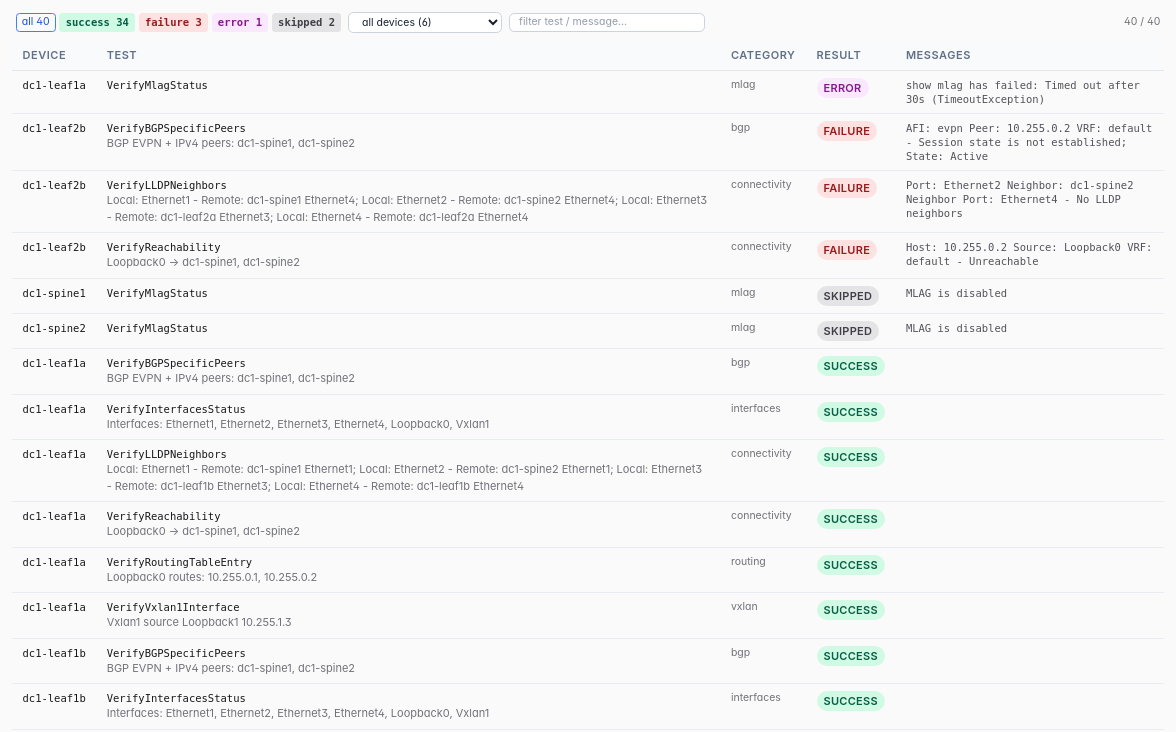
ValidationResults table › toggles status chips and combines with the device filter
Step 1. Click the button with test id "filter-failure" → (173, 22), box [139,12,208,32]
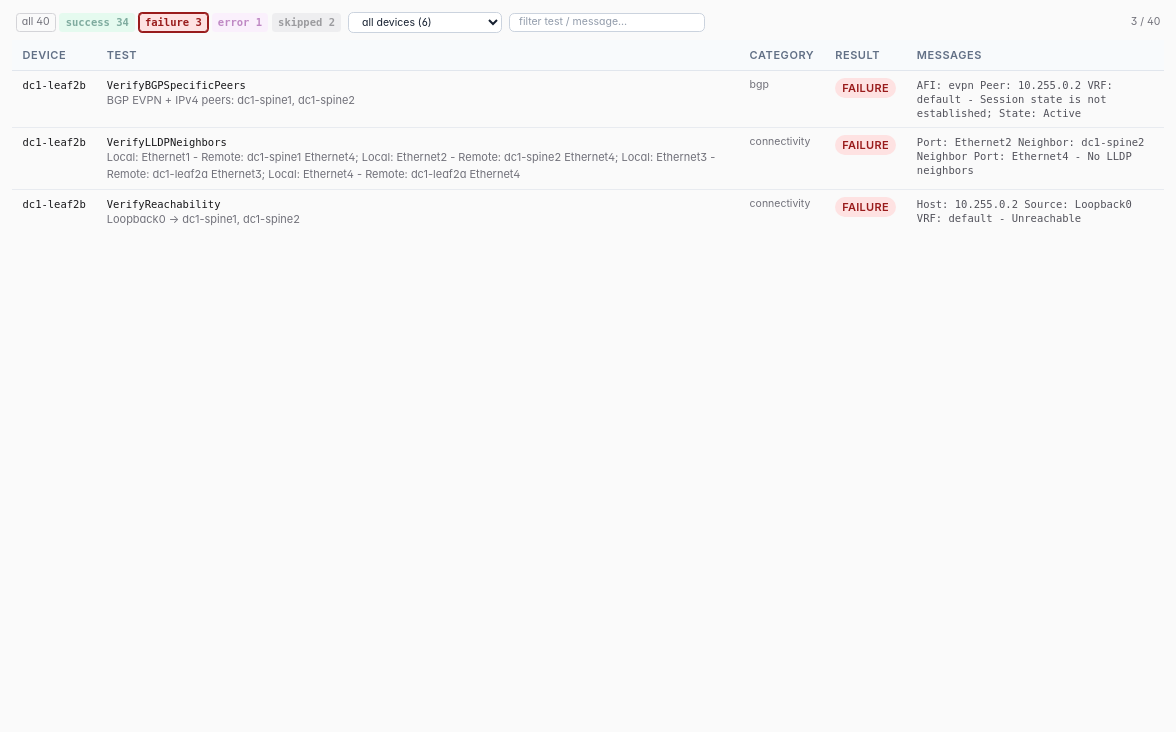
Now the number of rows with test id "result-row" is 3, box [12,70,1164,128]; [12,128,1164,190]; [12,190,1164,234]
Step 2. Click the button with test id "filter-error" → (240, 22), box [212,12,268,32]
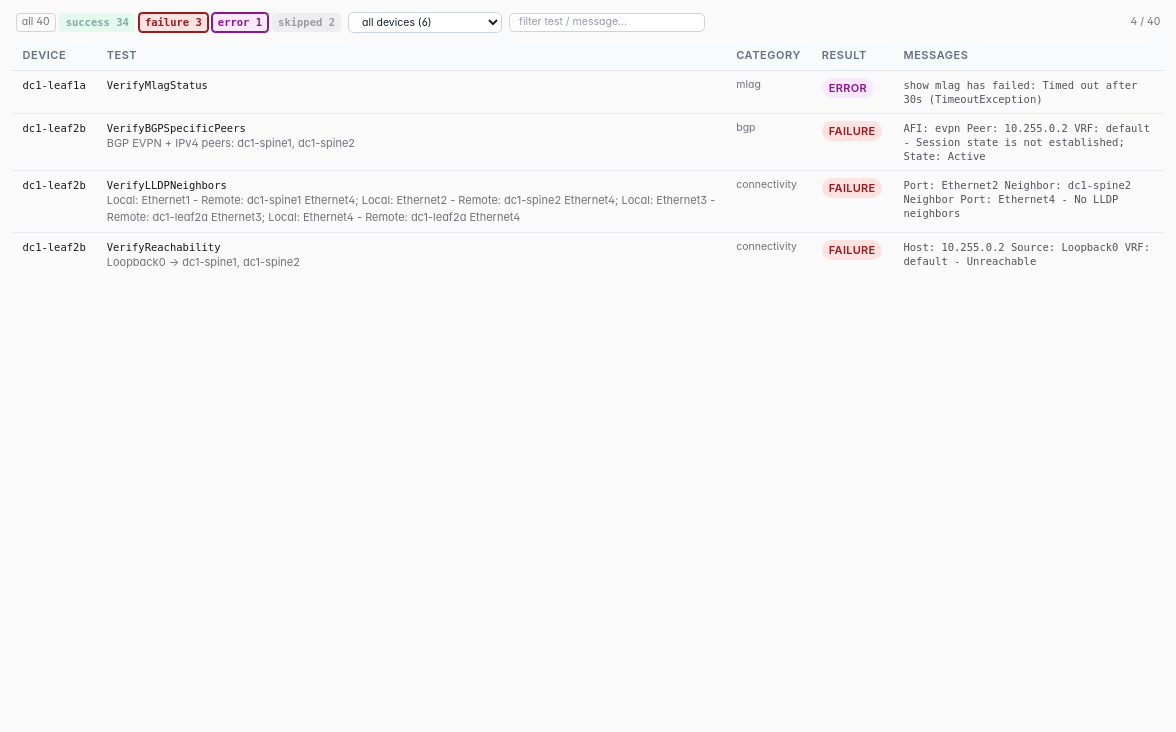
Now the number of rows with test id "result-row" is 4, box [12,70,1164,114]; [12,114,1164,170]; [12,170,1164,232]; [12,232,1164,278]
Step 3. Select "dc1-spine1" in the dropdown named "device filter" → (425, 22), box [348,12,502,32]
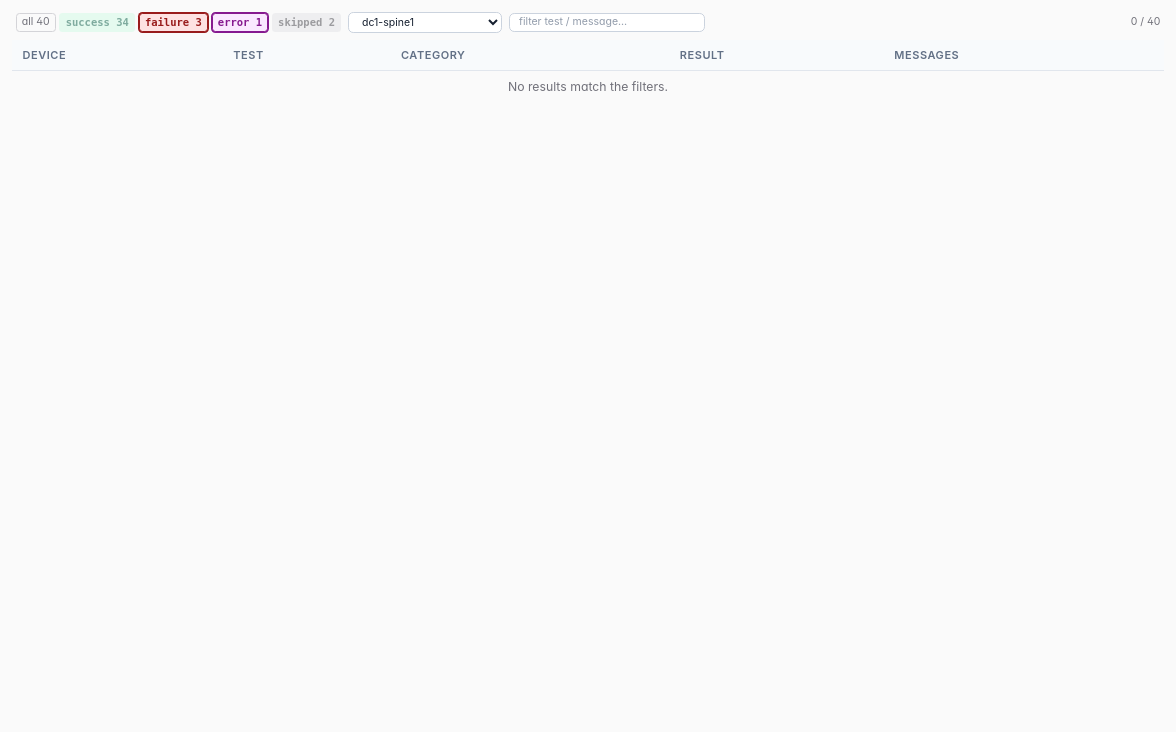
Now no rows with test id "result-row" are shown
Now the text "No results match the filters." is shown, box [12,70,1164,102]
Step 4. Click the button "all 40" → (36, 22), box [16,12,56,32]
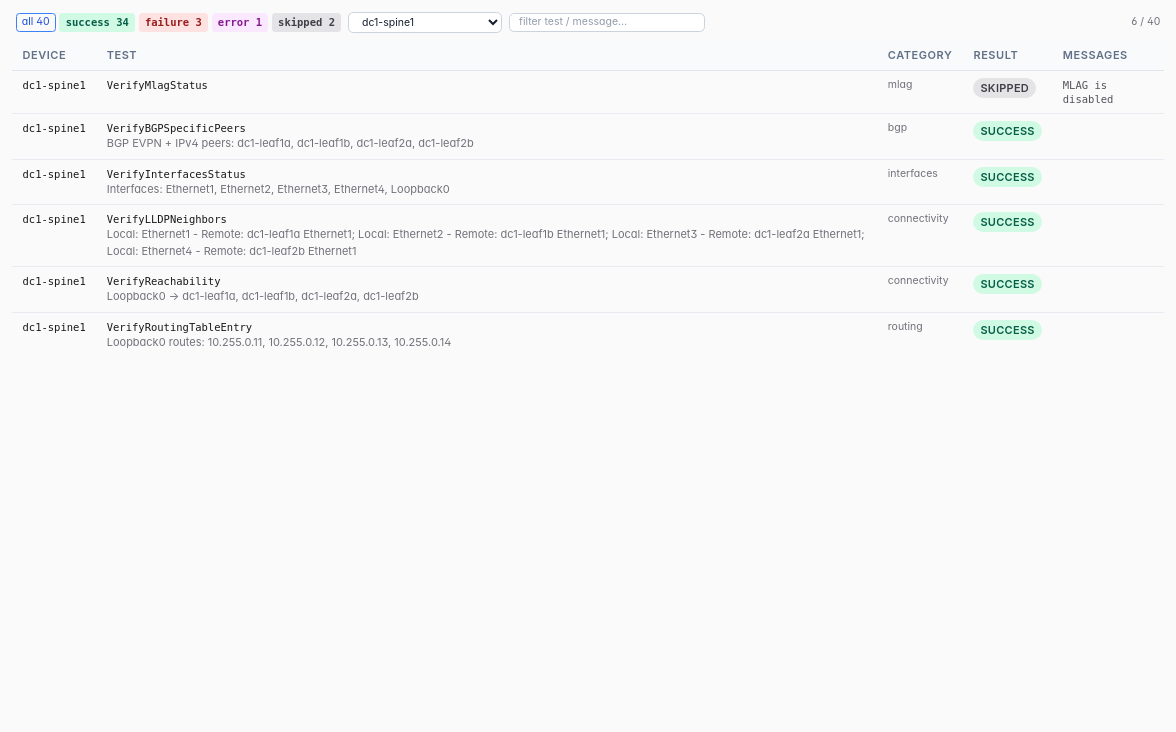
Now the number of rows with test id "result-row" is 6, box [12,70,1164,114]; [12,114,1164,159]; [12,159,1164,204]; [12,204,1164,266]; [12,266,1164,312]; [12,312,1164,357]
Step 5. Click the button with test id "filter-skipped" → (306, 22), box [272,12,341,32]
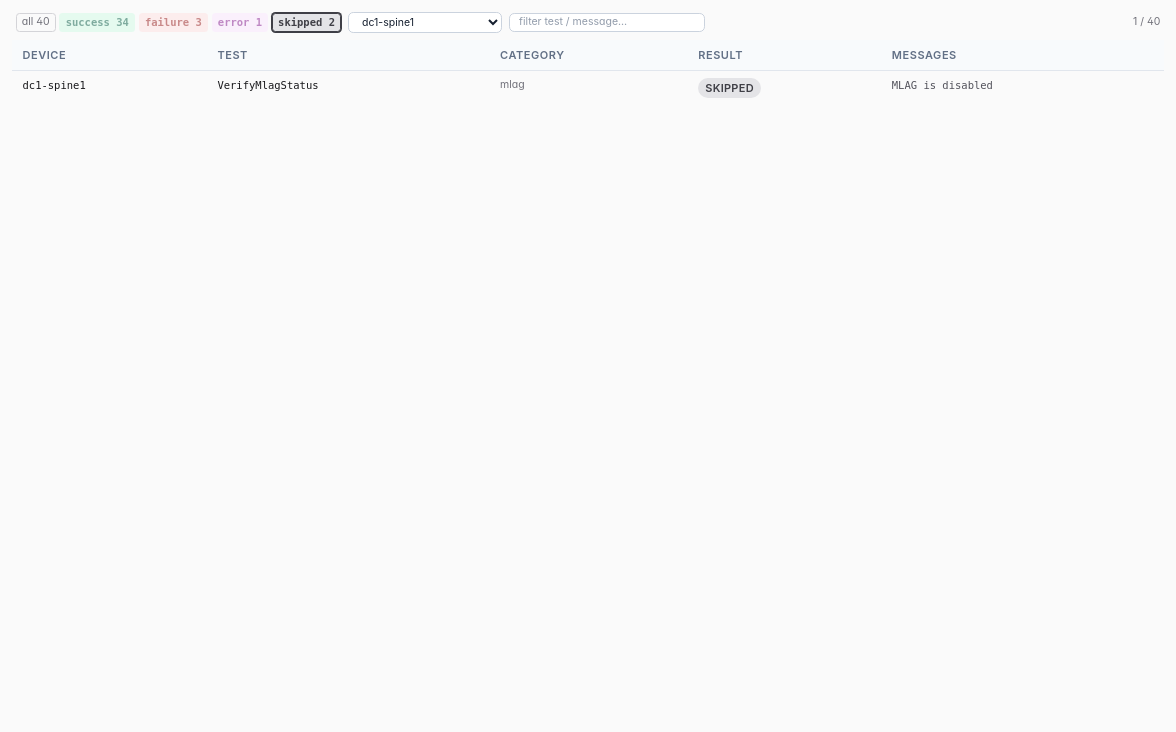
Now the row with test id "result-row" shows "MLAG is disabled", box [892,79,993,91]
Now the number of rows with test id "result-row" is 1, box [12,70,1164,105]
